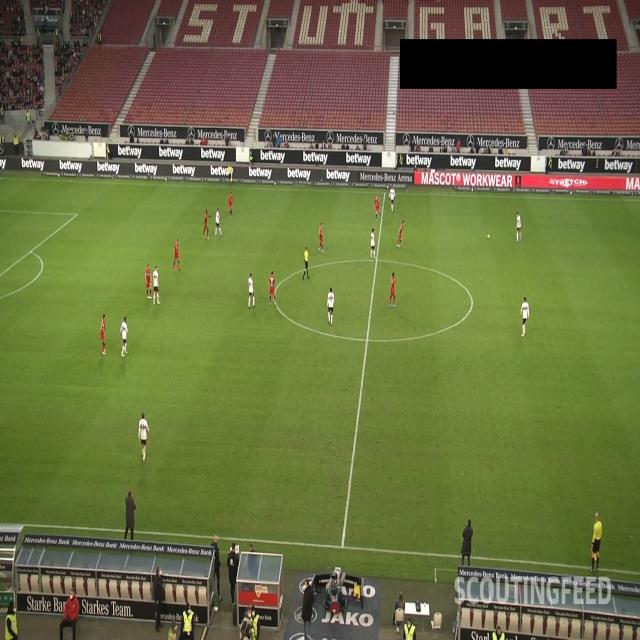ball: (487, 234, 491, 240)
